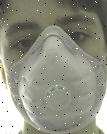with_mask: (2, 1, 107, 134)
